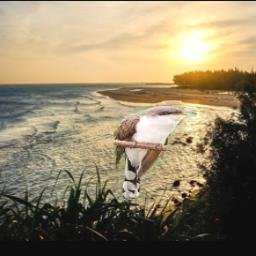Cuckoo: (114, 106, 197, 202)
